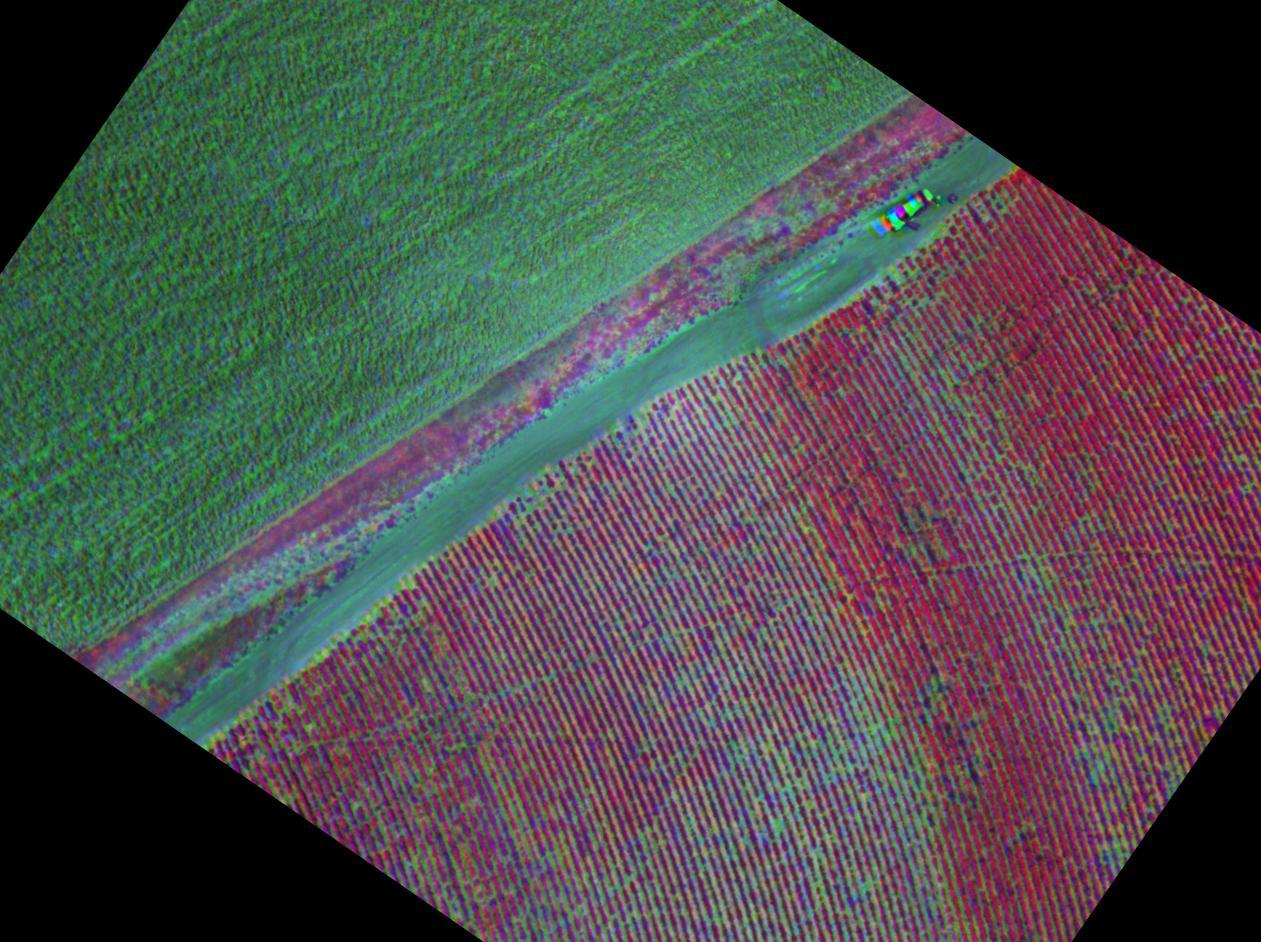dc: (528, 490, 533, 495), (774, 823, 779, 828), (817, 881, 822, 886), (860, 794, 864, 800), (376, 612, 381, 616), (890, 719, 894, 724), (943, 883, 947, 887)
